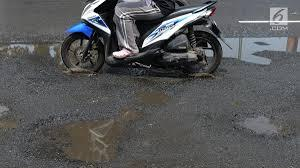Pothole: (46, 86, 173, 168), (1, 30, 97, 81), (216, 33, 300, 73), (227, 101, 285, 146), (0, 96, 26, 139)
